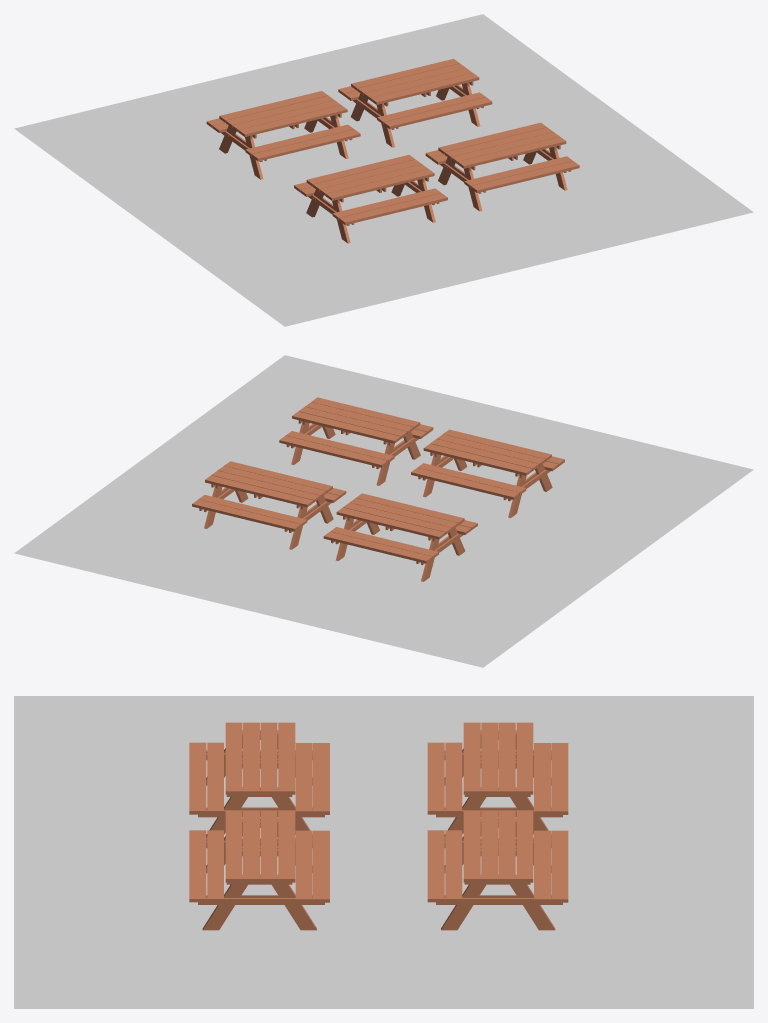
The model's file is scene_4_tables.glb.
The picture shows the model from 3 angles, top to bottom: view 1: azimuth 30°, elevation 25°; view 2: azimuth 150°, elevation 25°; view 3: azimuth 270°, elevation 25°; orthographic projection. The views are drawn at different scales.
Parts seen in each view (by area): view 1: Object_2, g.002, g.003, g, g.001; view 2: Object_2, g, g.003, g.002, g.001; view 3: Object_2, g.002, g.003, g.001, g.
Part boxes in pixels (<box>): Object_2: <box>14,14,753,326</box>; g.002: <box>338,58,492,147</box>; g.003: <box>425,122,579,211</box>; g: <box>294,155,447,243</box>; g.001: <box>206,91,360,179</box>; Object_2: <box>14,355,753,667</box>; g: <box>411,429,564,517</box>; g.003: <box>279,397,433,485</box>; g.002: <box>192,461,346,549</box>; g.001: <box>323,493,477,581</box>; Object_2: <box>14,696,753,1008</box>; g.002: <box>427,810,568,930</box>; g.003: <box>189,810,329,930</box>; g.001: <box>427,722,568,837</box>; g: <box>189,722,329,838</box>.
Size of the model in its own units: 9.14 by 0.77 by 9.14.
